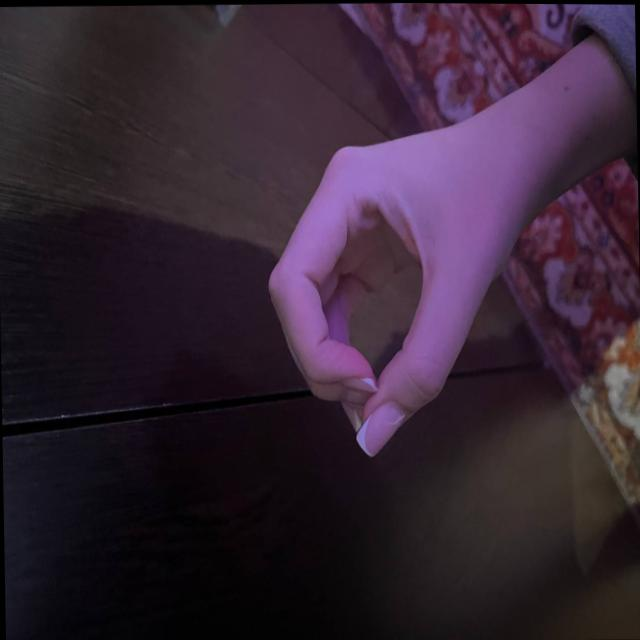e: (260, 95, 540, 471)
